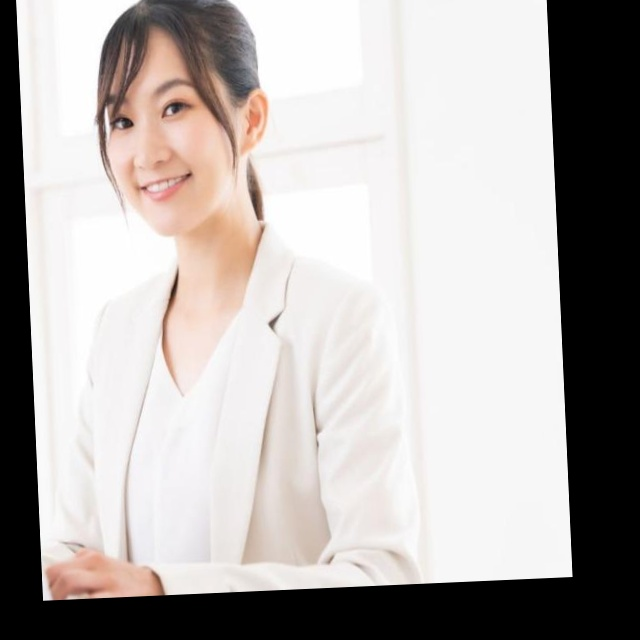Sin_Casco_Mascarrilla: (90, 0, 277, 235)
Sin_Chaleco: (64, 241, 411, 598)
